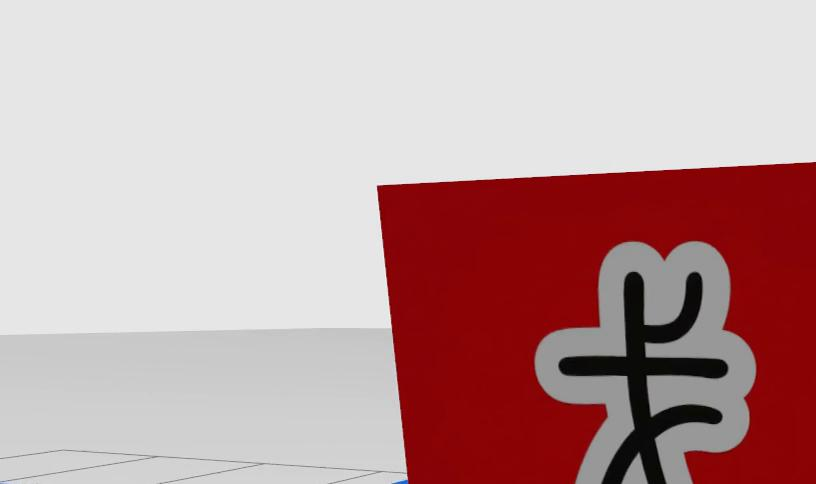KFS_FAKE: (378, 164, 816, 484), (535, 241, 756, 484)
